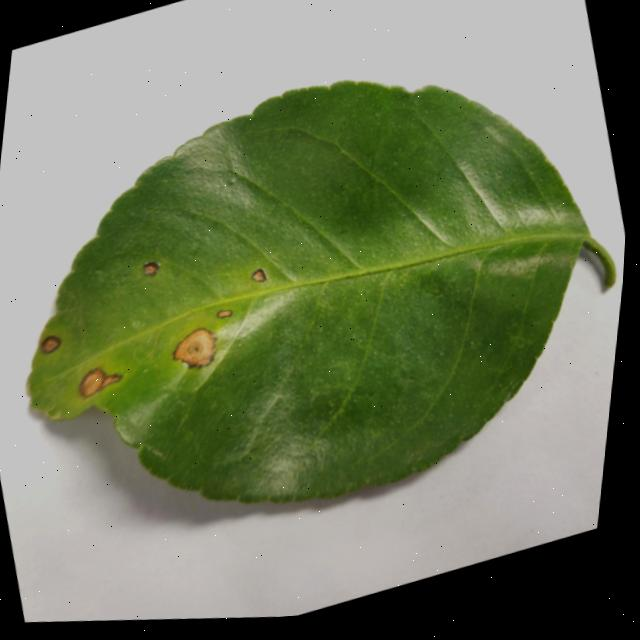antracnose: (27, 81, 614, 501), (173, 328, 215, 366), (79, 367, 120, 397), (40, 335, 60, 352), (142, 261, 158, 275), (251, 268, 266, 281), (216, 309, 231, 317)
